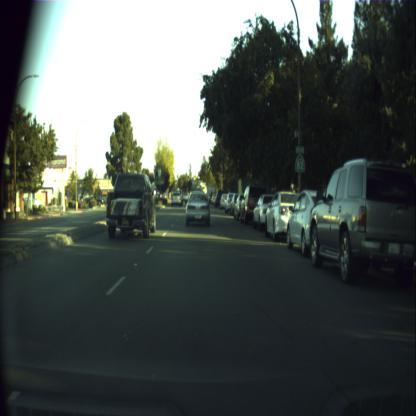Green: (188, 176, 190, 180)
